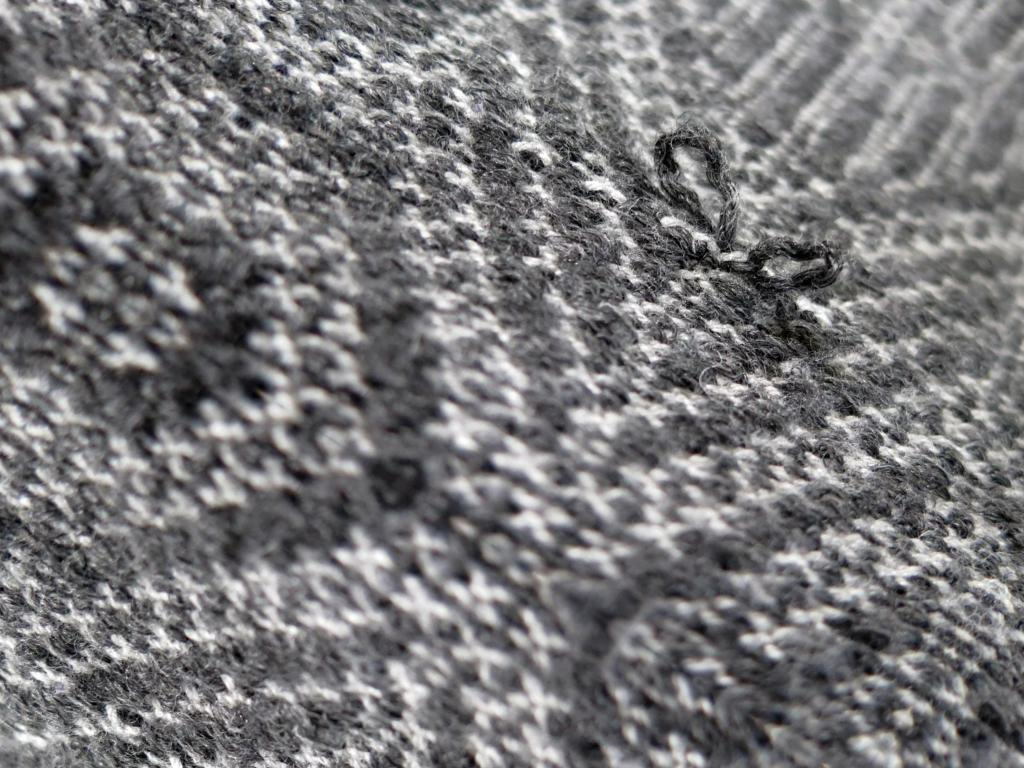snag: (649, 118, 744, 264), (743, 235, 863, 321)
